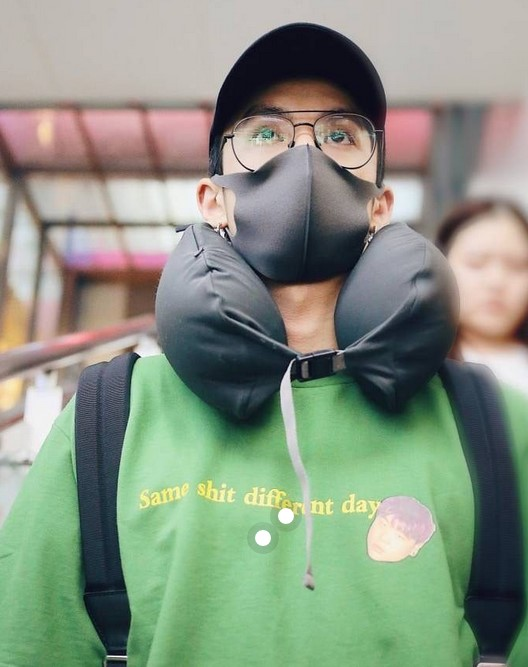face_no_mask: (442, 199, 527, 341)
face_with_mask: (203, 20, 401, 289)
